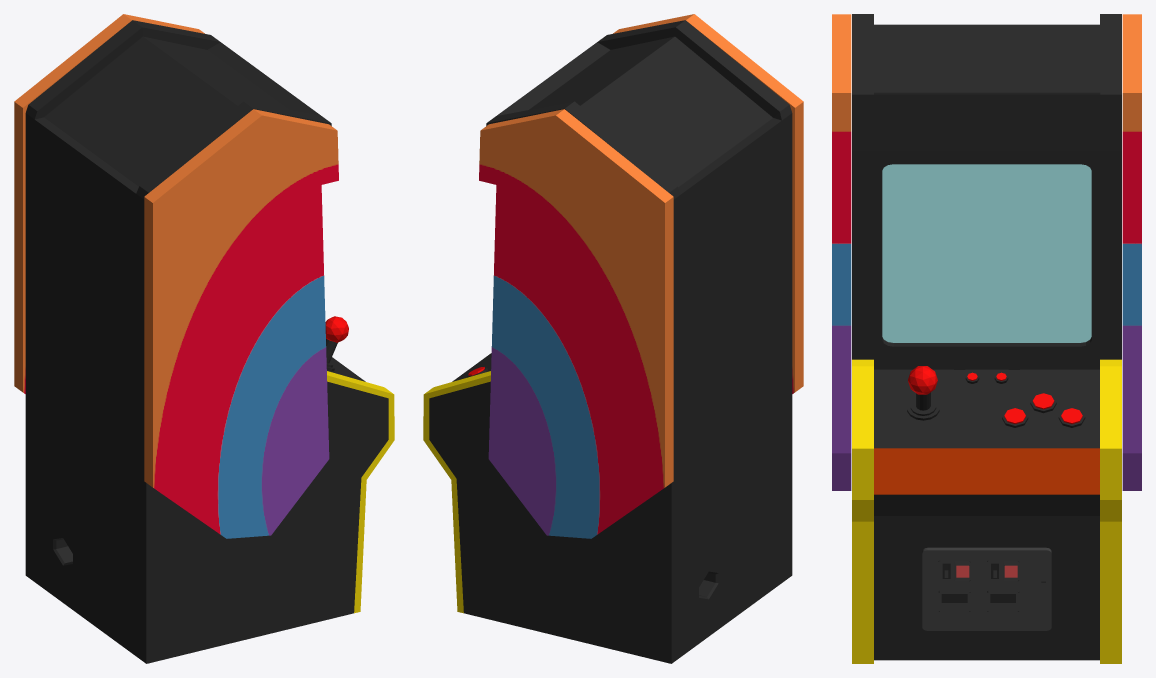
The model's file is ArcadeMachine-v4.gltf.
3 renders of one model, left to right at view 1: azimuth 30°, elevation 25°; view 2: azimuth 150°, elevation 25°; view 3: azimuth 270°, elevation 25°, orthographic. The views are drawn at different scales.
Parts seen in each view (by area): view 1: ArcadeMachine; view 2: ArcadeMachine; view 3: ArcadeMachine.
Boxes of the visible parts, x1,y1,x2,y2 form: ArcadeMachine: (14, 14, 394, 663); ArcadeMachine: (423, 14, 803, 663); ArcadeMachine: (832, 14, 1141, 663).
Bounding box in the file's own units: 2.53 × 5.1 × 2.42.
8 materials, 1 textured.
